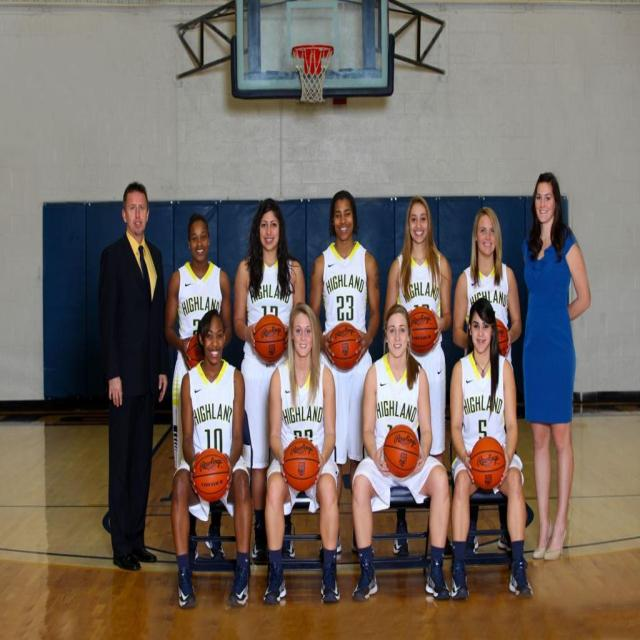Face: (119, 174, 165, 241), (288, 295, 324, 362), (383, 305, 422, 365), (461, 308, 503, 361), (330, 186, 362, 251), (467, 209, 506, 261), (201, 309, 233, 372), (400, 201, 440, 251), (533, 169, 563, 232), (256, 202, 291, 252), (183, 217, 213, 266)
